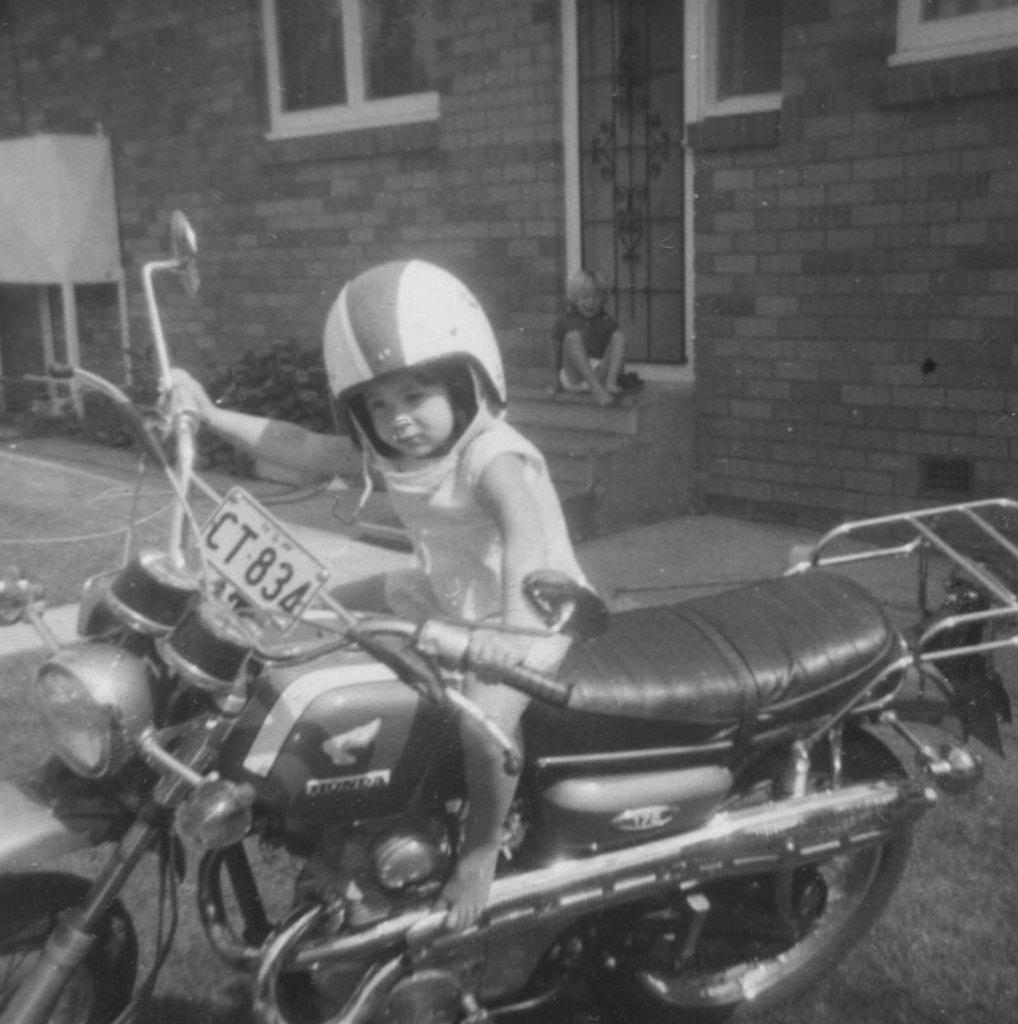helmet: (322, 259, 508, 457)
nohelmet: (566, 268, 609, 321)
